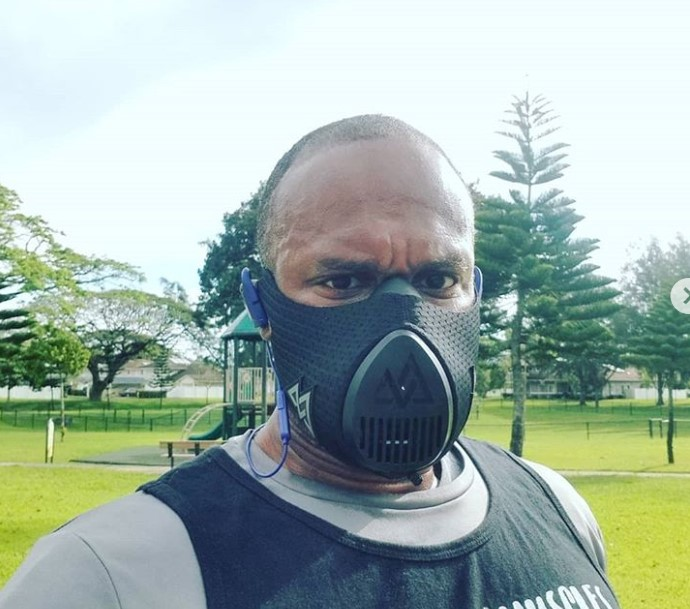face_with_mask: (235, 114, 489, 492)
